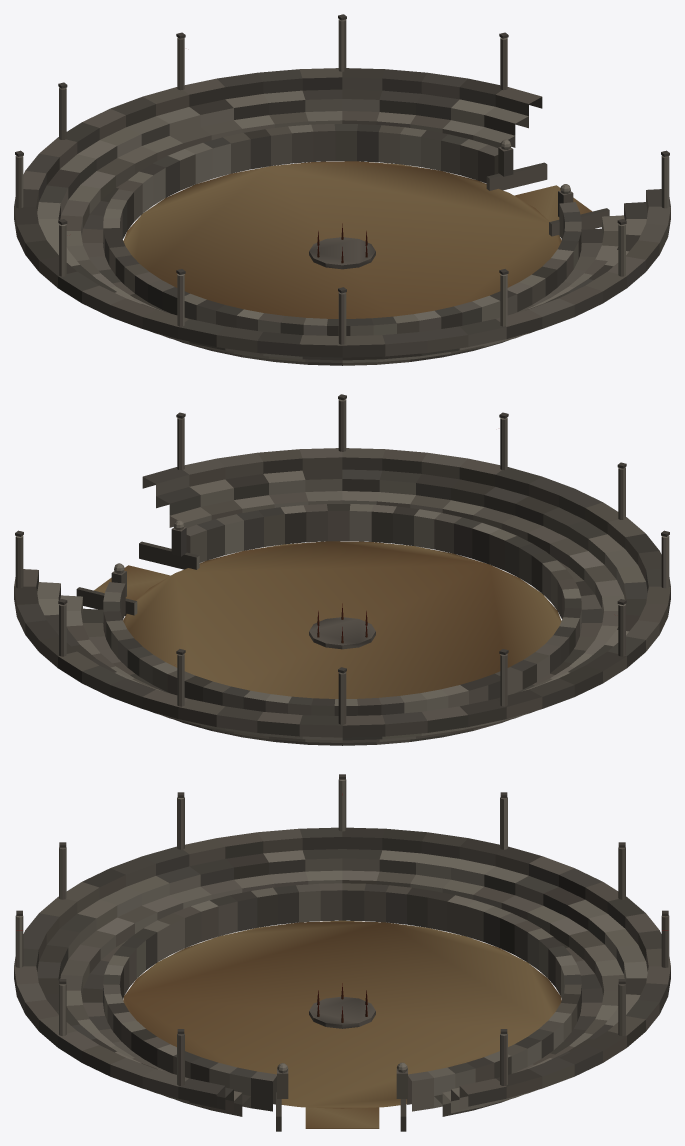
File: combat_arena.glb
The picture shows the model from 3 angles, top to bottom: view 1: azimuth 30°, elevation 25°; view 2: azimuth 150°, elevation 25°; view 3: azimuth 270°, elevation 25°; orthographic projection.
Parts seen in each view (by area): view 1: Arena_Floor, Stands_Tier_3, Arena_Wall, Stands_Tier_2, Stands_Tier_1, Stands_Tier_0, Center_Platform, Entrance_Wall_-1.001, Entrance_Ramp, Entrance_Wall_-1; view 2: Arena_Floor, Stands_Tier_3, Arena_Wall, Stands_Tier_2, Stands_Tier_1, Stands_Tier_0, Center_Platform, Entrance_Wall_-1, Entrance_Ramp, Entrance_Wall_-1.001; view 3: Arena_Floor, Arena_Wall, Stands_Tier_3, Stands_Tier_2, Stands_Tier_1, Stands_Tier_0, Center_Platform, Entrance_Ramp.
Boxes of the visible parts, box(x1,y1,x2,y2) form: Arena_Floor: box(123, 161, 561, 318); Stands_Tier_3: box(14, 68, 670, 357); Arena_Wall: box(103, 124, 581, 335); Stands_Tier_2: box(37, 89, 647, 360); Stands_Tier_1: box(60, 111, 624, 362); Stands_Tier_0: box(81, 181, 603, 365); Center_Platform: box(309, 237, 375, 269); Entrance_Wall_-1.001: box(486, 162, 547, 190); Entrance_Ramp: box(514, 185, 592, 221); Entrance_Wall_-1: box(549, 208, 609, 237); Arena_Floor: box(123, 541, 561, 698); Stands_Tier_3: box(14, 448, 670, 737); Arena_Wall: box(103, 504, 581, 715); Stands_Tier_2: box(37, 469, 647, 740); Stands_Tier_1: box(60, 491, 624, 742); Stands_Tier_0: box(81, 561, 603, 745); Center_Platform: box(309, 617, 375, 649); Entrance_Wall_-1: box(139, 541, 199, 569); Entrance_Ramp: box(94, 565, 170, 600); Entrance_Wall_-1.001: box(76, 587, 137, 615); Arena_Floor: box(123, 920, 561, 1108); Arena_Wall: box(103, 883, 581, 1111); Stands_Tier_3: box(14, 827, 670, 1106); Stands_Tier_2: box(37, 849, 647, 1109); Stands_Tier_1: box(60, 870, 624, 1113); Stands_Tier_0: box(81, 940, 603, 1116); Center_Platform: box(309, 997, 375, 1028); Entrance_Ramp: box(305, 1107, 379, 1128).
Size of the model in its own units: 56.75 by 10.45 by 59.
